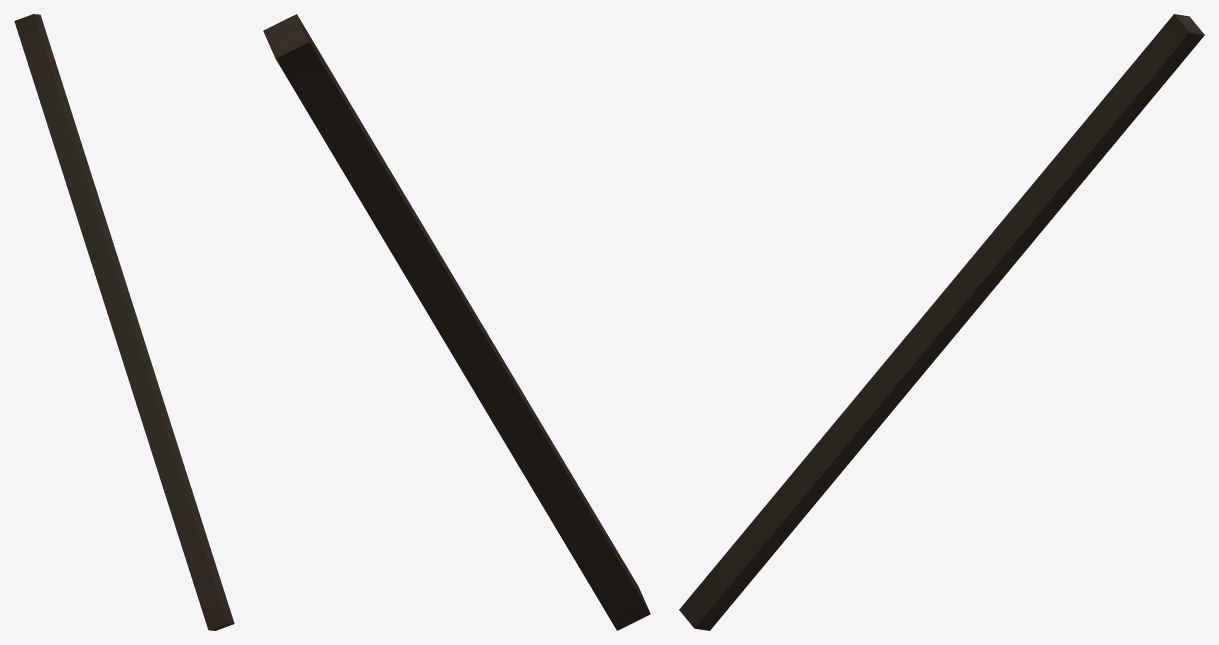
The model's file is life-tool-poker.glb.
3 renders of one model, left to right at view 1: azimuth 30°, elevation 25°; view 2: azimuth 150°, elevation 25°; view 3: azimuth 270°, elevation 25°, orthographic. The views are drawn at different scales.
Parts seen in each view (by area): view 1: life-tool-poker; view 2: life-tool-poker; view 3: life-tool-poker.
Part boxes in pixels (<box>): life-tool-poker: <box>14,14,234,630</box>; life-tool-poker: <box>263,14,650,630</box>; life-tool-poker: <box>679,14,1204,630</box>.
Size of the model in its own units: 0.005 by 0.088 by 0.068.
1 material, 1 textured.
